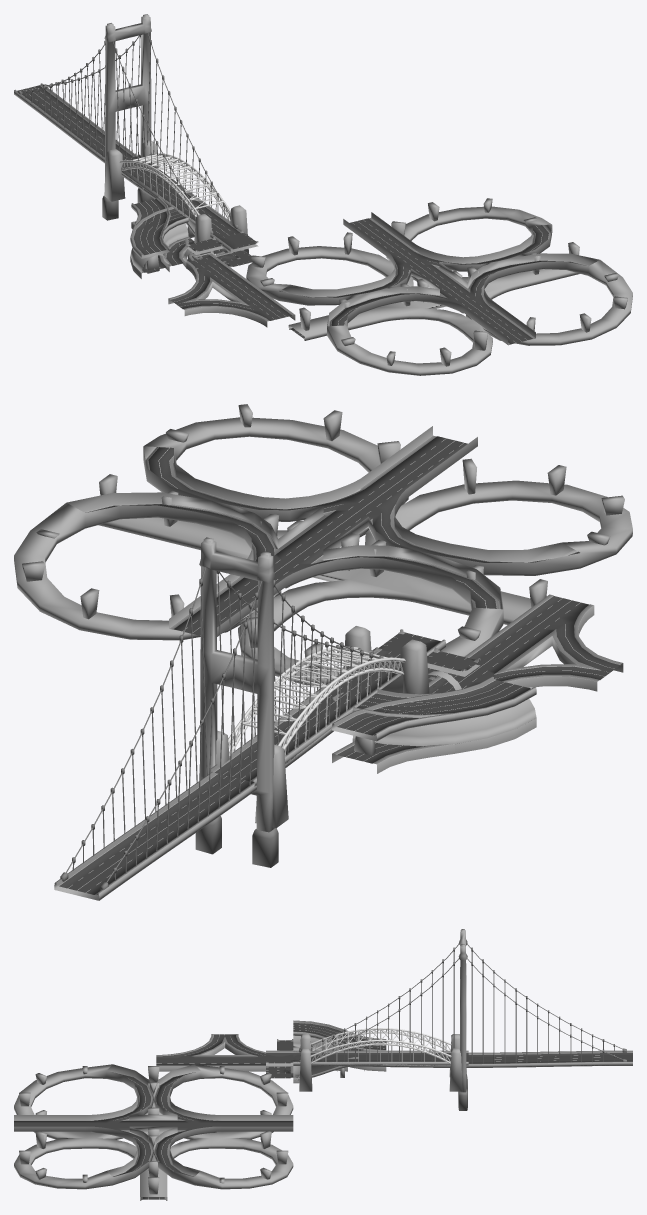
The model's file is supplied-road-pack-optimized.glb.
3 views of the same model, one above another, from view 1: azimuth 30°, elevation 25°; view 2: azimuth 150°, elevation 25°; view 3: azimuth 270°, elevation 25° (orthographic). The views are drawn at different scales.
Visible parts, largest first — view 1: SuppliedRoadPack_StackInterchange, SuppliedRoadPack_SuspensionBridge, SuppliedRoadPack_HighwayBridge, SuppliedRoadPack_FreewayMerge, SuppliedRoadPack_HighwayCurve, SuppliedRoadPack_HighwaySCurve, SuppliedRoadPack_TunnelCurve, SuppliedRoadPack_HighwayMerge; view 2: SuppliedRoadPack_StackInterchange, SuppliedRoadPack_SuspensionBridge, SuppliedRoadPack_HighwayBridge, SuppliedRoadPack_FreewayMerge, SuppliedRoadPack_HighwayCurve, SuppliedRoadPack_TunnelCurve, SuppliedRoadPack_HighwaySCurve, SuppliedRoadPack_FreewaySCurve, SuppliedRoadPack_HighwayCrossRoad, SuppliedRoadPack_FreewayCurve, SuppliedRoadPack_HighwayMerge; view 3: SuppliedRoadPack_StackInterchange, SuppliedRoadPack_SuspensionBridge, SuppliedRoadPack_HighwayBridge, SuppliedRoadPack_FreewayMerge, SuppliedRoadPack_HighwayCurve, SuppliedRoadPack_HighwayMerge.
Boxes of the visible parts, x1=… form: SuppliedRoadPack_StackInterchange: x1=246, y1=198, x2=632, y2=375; SuppliedRoadPack_SuspensionBridge: x1=14, y1=14, x2=238, y2=238; SuppliedRoadPack_HighwayBridge: x1=104, y1=140, x2=248, y2=254; SuppliedRoadPack_FreewayMerge: x1=168, y1=255, x2=295, y2=327; SuppliedRoadPack_HighwayCurve: x1=130, y1=206, x2=188, y2=273; SuppliedRoadPack_HighwaySCurve: x1=131, y1=196, x2=170, y2=267; SuppliedRoadPack_TunnelCurve: x1=130, y1=223, x2=188, y2=272; SuppliedRoadPack_HighwayMerge: x1=215, y1=230, x2=258, y2=252; SuppliedRoadPack_StackInterchange: x1=14, y1=404, x2=632, y2=685; SuppliedRoadPack_SuspensionBridge: x1=54, y1=537, x2=402, y2=900; SuppliedRoadPack_HighwayBridge: x1=210, y1=626, x2=429, y2=828; SuppliedRoadPack_FreewayMerge: x1=429, y1=594, x2=623, y2=692; SuppliedRoadPack_HighwayCurve: x1=352, y1=676, x2=536, y2=720; SuppliedRoadPack_TunnelCurve: x1=353, y1=699, x2=536, y2=745; SuppliedRoadPack_HighwaySCurve: x1=332, y1=693, x2=454, y2=755; SuppliedRoadPack_FreewaySCurve: x1=332, y1=718, x2=536, y2=773; SuppliedRoadPack_HighwayCrossRoad: x1=427, y1=647, x2=480, y2=676; SuppliedRoadPack_FreewayCurve: x1=352, y1=718, x2=536, y2=753; SuppliedRoadPack_HighwayMerge: x1=376, y1=629, x2=445, y2=656; SuppliedRoadPack_StackInterchange: x1=14, y1=1064, x2=293, y2=1200; SuppliedRoadPack_SuspensionBridge: x1=293, y1=929, x2=632, y2=1110; SuppliedRoadPack_HighwayBridge: x1=293, y1=1028, x2=468, y2=1091; SuppliedRoadPack_FreewayMerge: x1=156, y1=1034, x2=292, y2=1071; SuppliedRoadPack_HighwayCurve: x1=293, y1=1020, x2=364, y2=1050; SuppliedRoadPack_HighwayMerge: x1=266, y1=1050, x2=293, y2=1065.
Bounding box in the file's own units: 325 × 165 × 565.
1 material, 1 textured.
